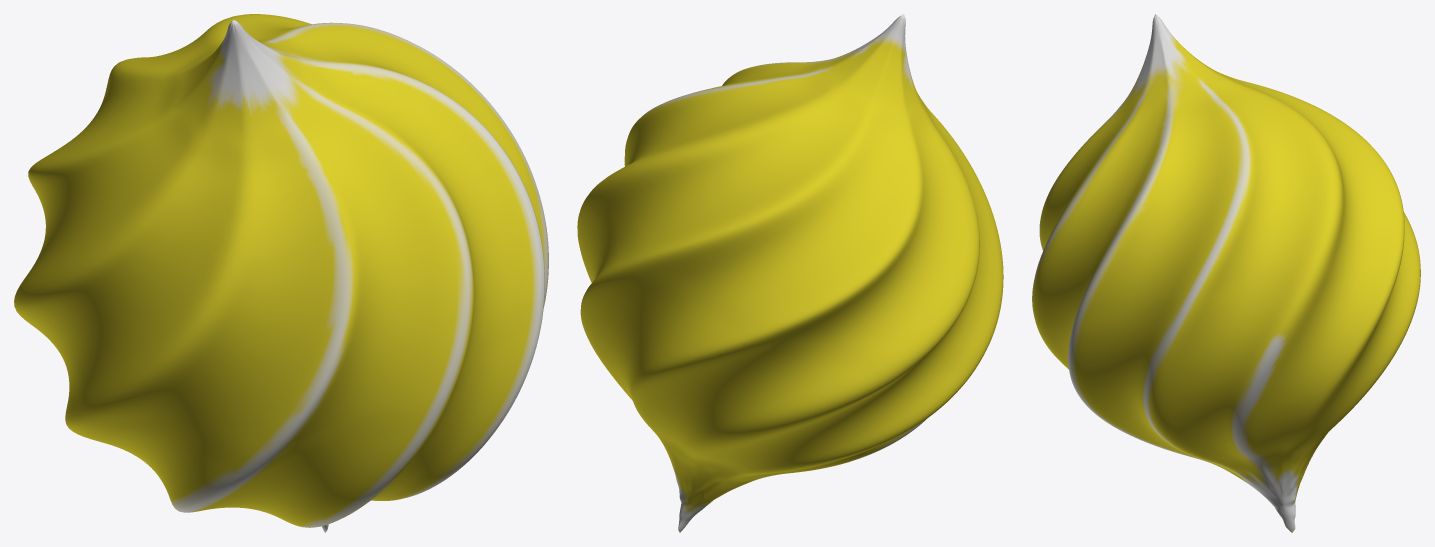
File: export_yellow_candy.glb
The picture shows the model from 3 angles, left to right: view 1: azimuth 30°, elevation 25°; view 2: azimuth 150°, elevation 25°; view 3: azimuth 270°, elevation 25°; orthographic projection. The views are drawn at different scales.
Parts seen in each view (by area): view 1: pSuperShape1; view 2: pSuperShape1; view 3: pSuperShape1.
Boxes of the visible parts, x1,y1,x2,y2 form: pSuperShape1: (14, 14, 548, 532); pSuperShape1: (577, 14, 1003, 532); pSuperShape1: (1032, 14, 1420, 532).
Size of what is drawn, in the model's own units: 0.9181 by 1.2 by 0.931.
